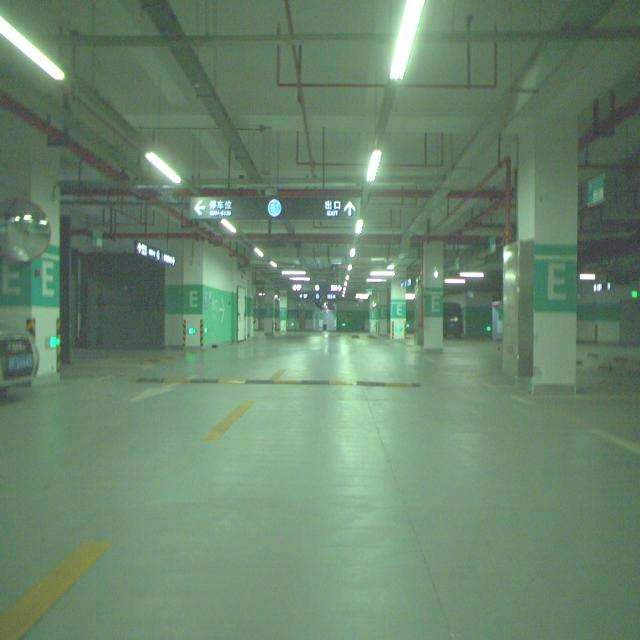pillar: (518, 112, 578, 394), (0, 109, 60, 374)
